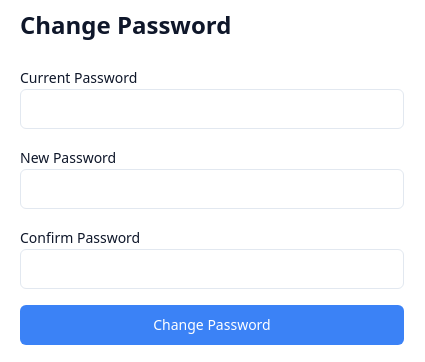
Scenario: AccountPage › shows "Changing…" and disables button while pending
The image size is (425, 362).
Type "oldpass" into the password field labelled "Current Password".
click(212, 109); type("oldpass")  # box [20,89,404,129]
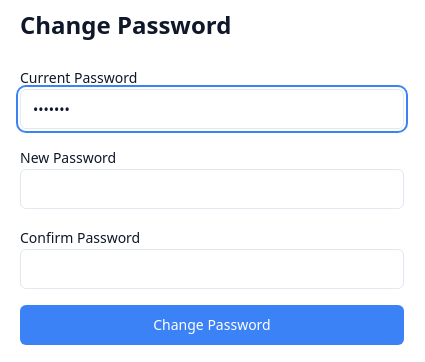
Type "newpass" into the password field labelled "New Password".
click(212, 189); type("newpass")  # box [20,169,404,209]
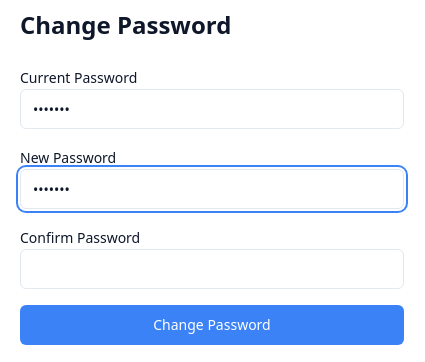
Type "newpass" into the password field labelled "Confirm Password".
click(212, 269); type("newpass")  # box [20,249,404,289]
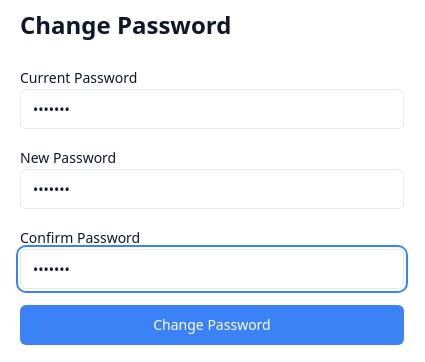
Click the button "Change Password".
click(212, 325)  # box [20,305,404,345]
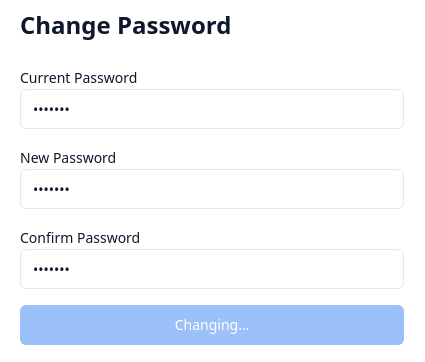
Result: the button "Changing…" is disabled at [20,305,404,345]
